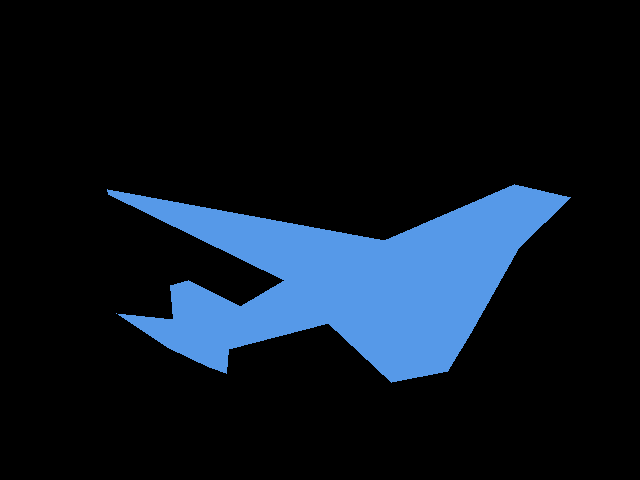Airplane: (107, 184, 570, 383)
